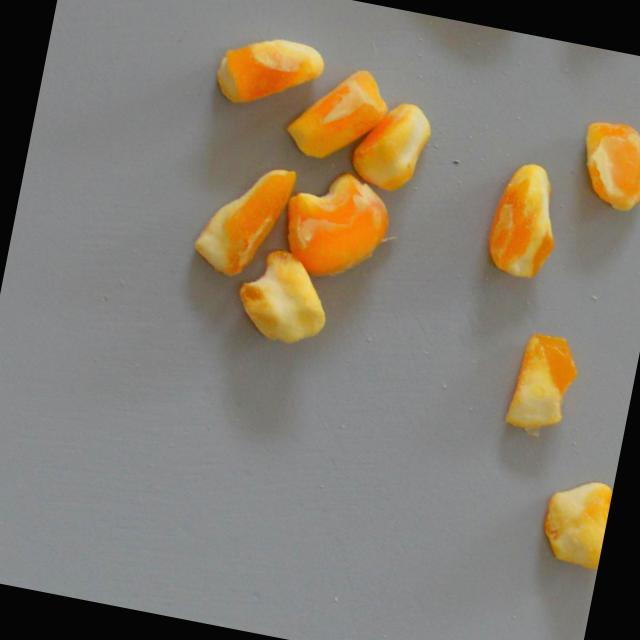dañado: (205, 20, 328, 122), (346, 95, 438, 199)
estandar: (533, 470, 614, 575)
pelicula: (273, 161, 402, 294), (188, 156, 299, 288), (231, 244, 338, 352), (482, 157, 571, 286), (501, 327, 590, 447), (280, 76, 397, 165), (568, 116, 640, 219)
